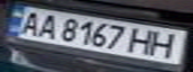1: (75, 19, 93, 46)
6: (90, 20, 109, 48)
7: (106, 22, 130, 52)
8: (54, 16, 81, 43)
A: (15, 8, 45, 36), (33, 11, 63, 39)
H: (148, 29, 184, 60), (127, 25, 160, 55)
